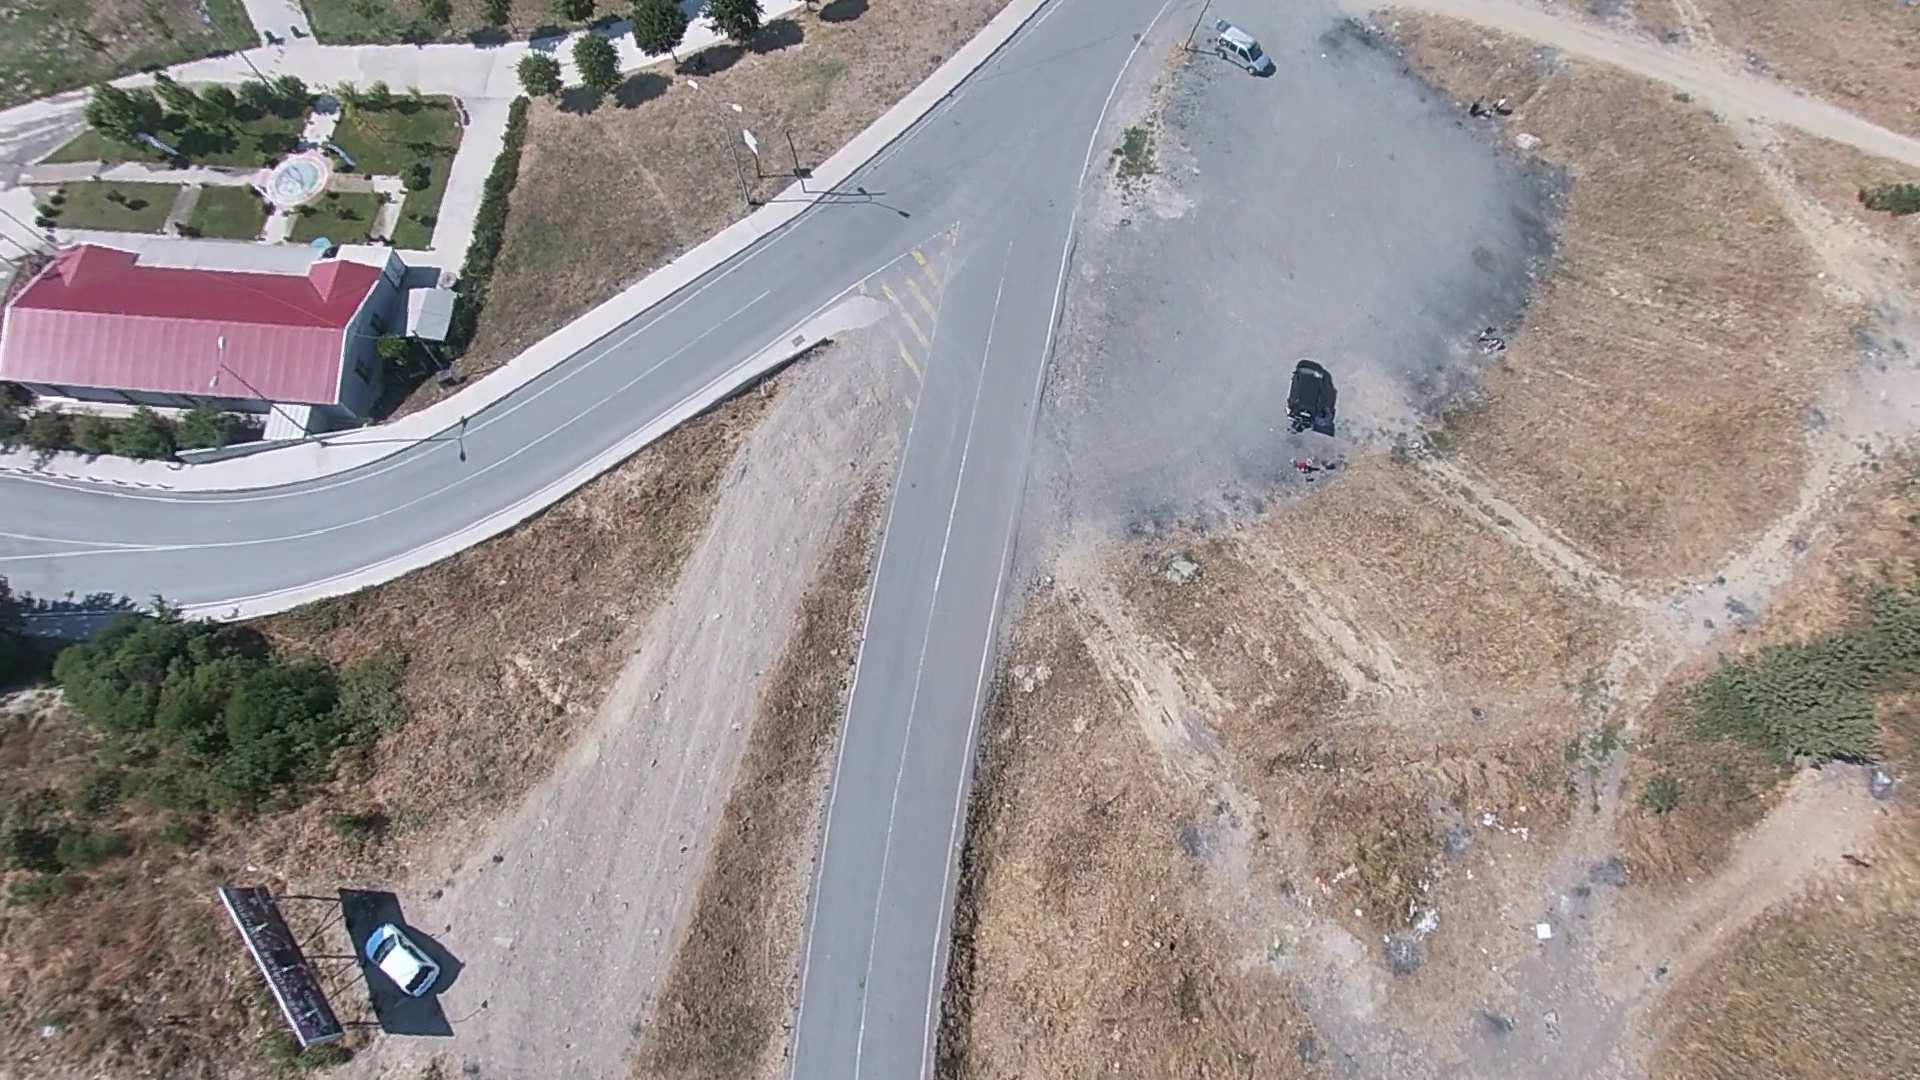araba: (361, 919, 442, 1000), (1284, 355, 1338, 434), (1215, 22, 1276, 76)
